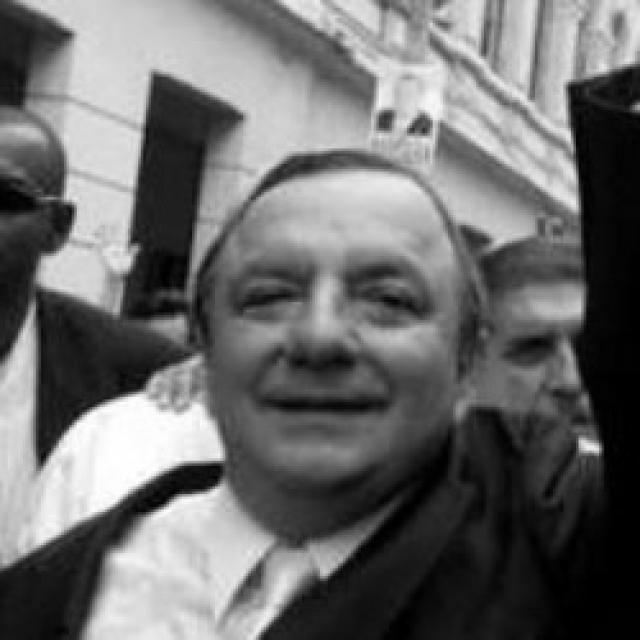real: (206, 155, 494, 505), (239, 266, 442, 325)
